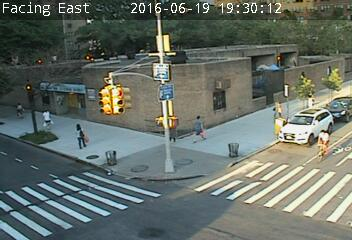neg: (308, 126, 334, 161), (338, 27, 351, 44), (271, 51, 283, 68), (1, 73, 12, 90), (22, 82, 33, 97), (321, 37, 326, 44)
pos: (67, 121, 88, 150), (187, 114, 208, 142), (38, 105, 54, 126), (11, 99, 26, 119), (268, 97, 283, 116)
